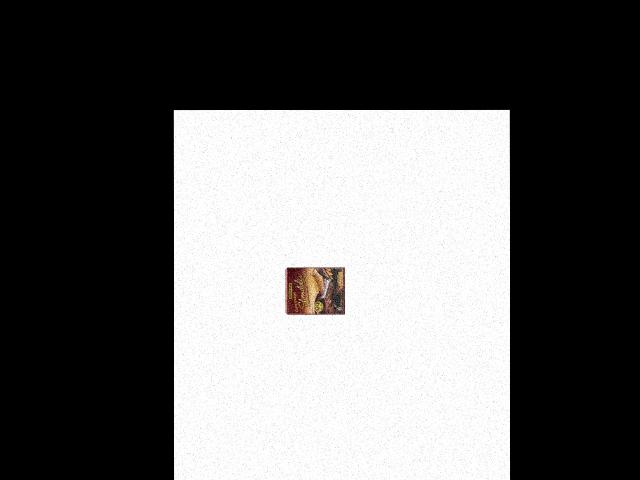chocolate: (285, 267, 345, 314)
